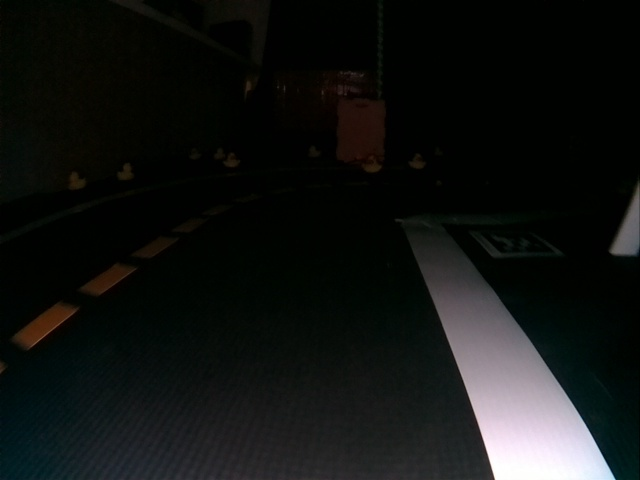Duckie: (363, 155, 381, 173), (69, 172, 86, 190), (223, 152, 240, 168), (118, 163, 133, 180), (409, 154, 424, 167), (308, 146, 319, 157), (189, 148, 200, 159)
QR code: (475, 232, 559, 257)
